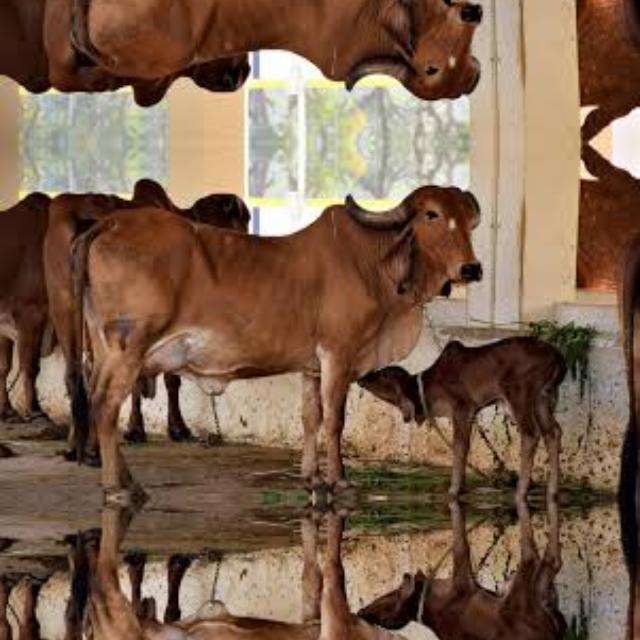person: (55, 175, 493, 498), (55, 496, 493, 640), (55, 0, 493, 109)
